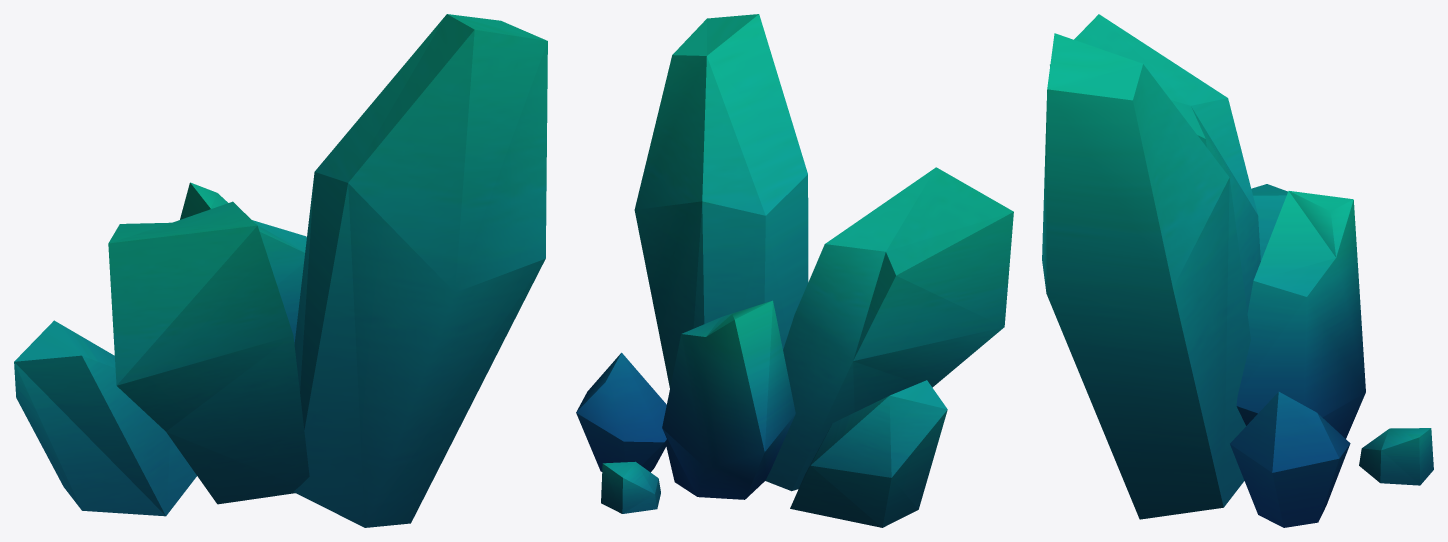
The model's file is ZLP_Crystalk_A_10.FBX.
3 views of the same model, side by side, from view 1: azimuth 30°, elevation 25°; view 2: azimuth 150°, elevation 25°; view 3: azimuth 270°, elevation 25° (orthographic). The views are drawn at different scales.
Visible parts, largest first — view 1: ZLP_Crystalk_A_10; view 2: ZLP_Crystalk_A_10; view 3: ZLP_Crystalk_A_10.
Part boxes in pixels (left/top/right/bottom): ZLP_Crystalk_A_10: left=14, top=14, right=547, bottom=527; ZLP_Crystalk_A_10: left=576, top=14, right=1013, bottom=527; ZLP_Crystalk_A_10: left=1042, top=14, right=1433, bottom=527.
Bounding box in the file's own units: 141 × 156 × 112.
